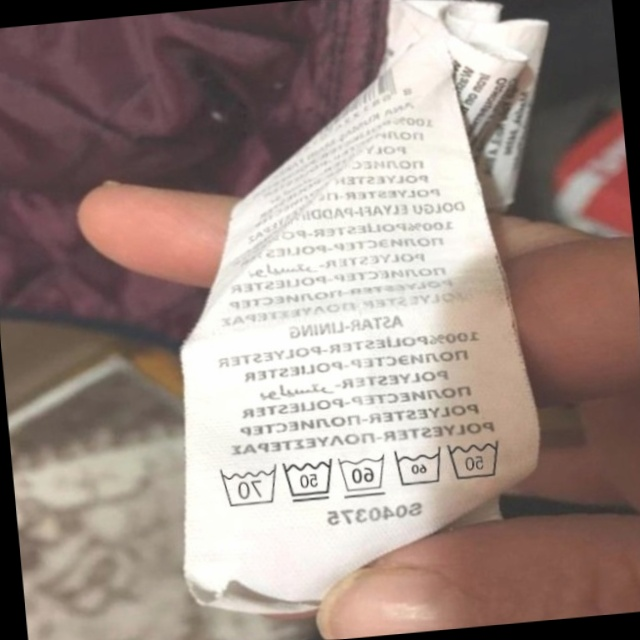50C: (440, 429, 510, 488), (276, 452, 339, 509)
60C: (331, 447, 391, 502), (387, 440, 448, 494)
70C: (211, 459, 281, 513)
